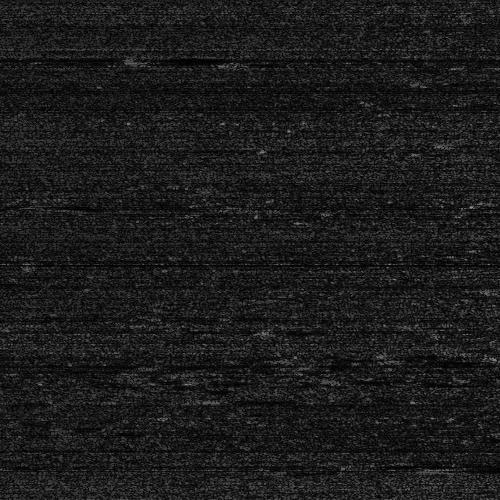object: (469, 348, 500, 359), (431, 466, 494, 471), (121, 58, 174, 61), (480, 99, 500, 104)
shadow: (462, 466, 500, 471), (0, 280, 36, 285), (148, 58, 168, 61)
